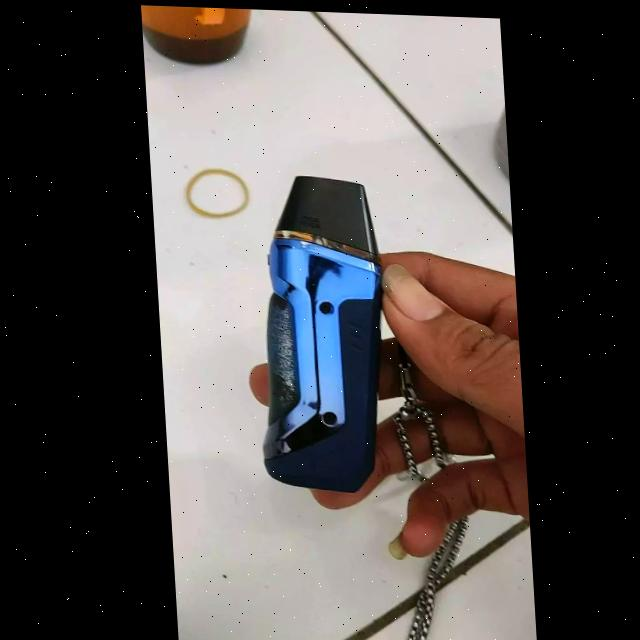vape: (241, 173, 389, 492)
